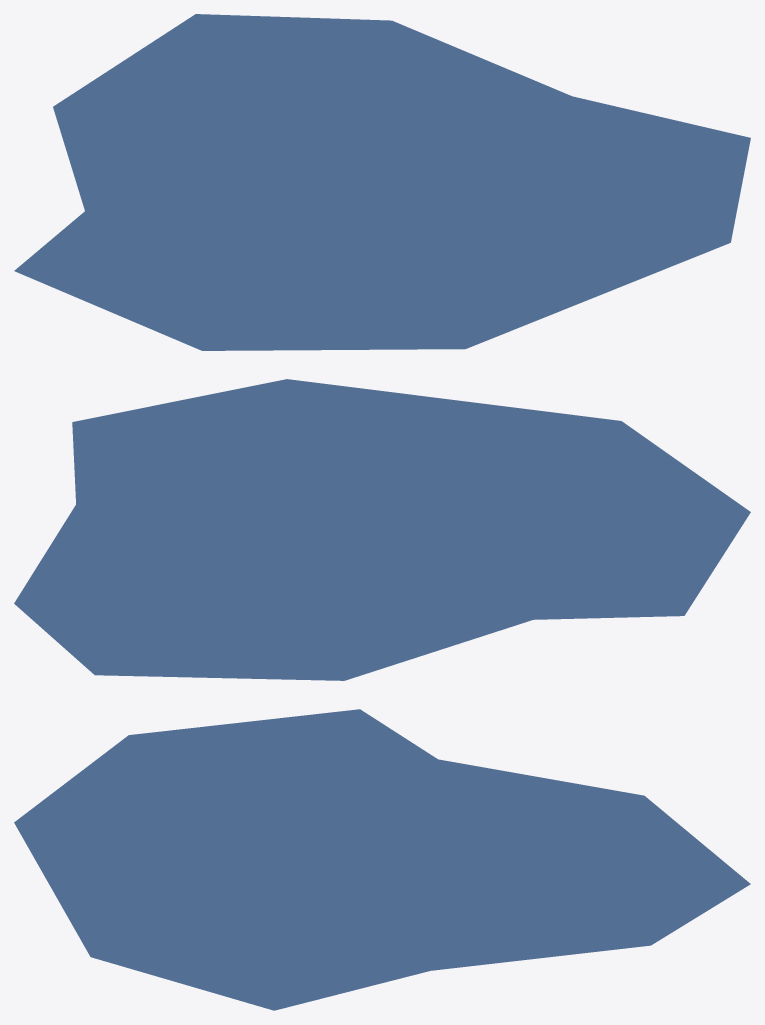
File: Water.gltf
3 renders of one model, top to bottom at view 1: azimuth 30°, elevation 25°; view 2: azimuth 150°, elevation 25°; view 3: azimuth 270°, elevation 25°, orthographic. The views are drawn at different scales.
Visible parts, largest first — view 1: Waterplane.001; view 2: Waterplane.001; view 3: Waterplane.001.
Boxes of the visible parts, box(x1,y1,x2,y2) form: Waterplane.001: box(14, 14, 750, 350); Waterplane.001: box(14, 379, 750, 680); Waterplane.001: box(14, 709, 750, 1010).
Bounding box in the file's own units: 72.74 × 0.00468 × 75.12.
1 material, 1 textured.
